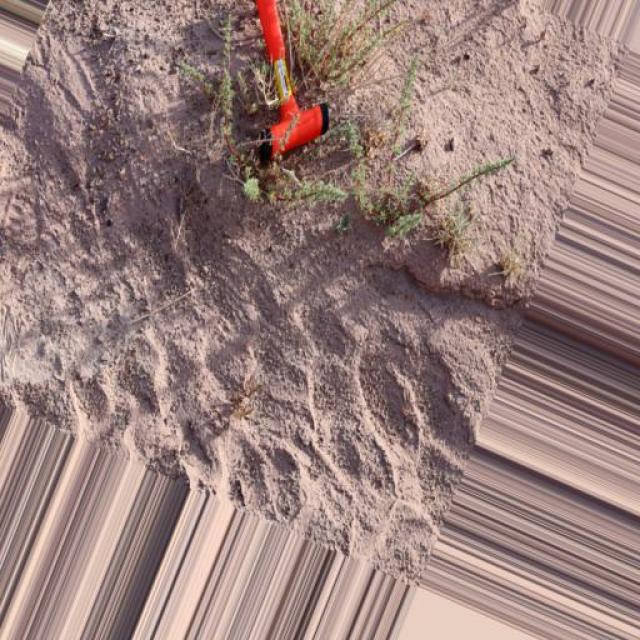mallet: (255, 0, 333, 168)
